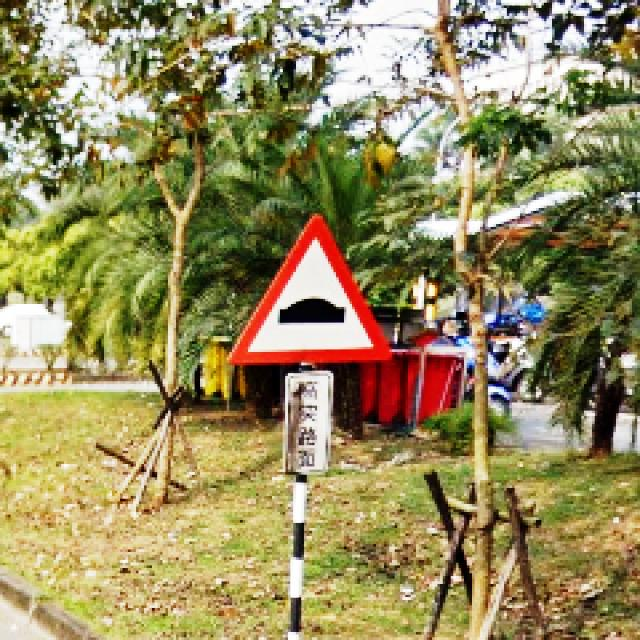hump: (227, 217, 393, 362)
